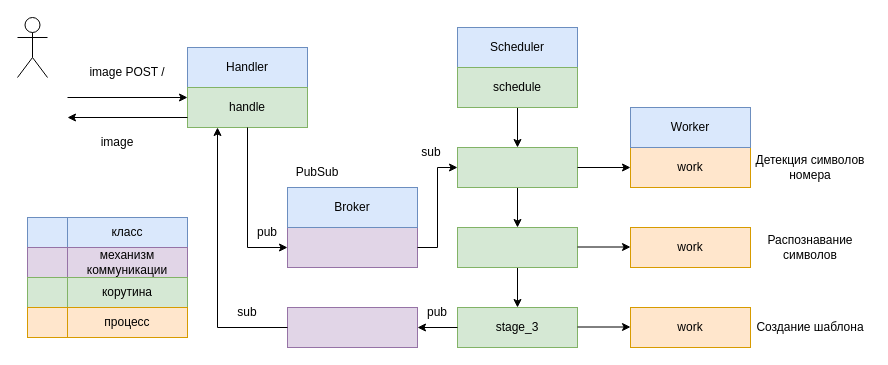
Some shapes in this 888 by 365 pixel diagram are drawn without their labels. The shapes that lost their labels are listed below. From the top down, each one's centre as x and y in pixels, then its label:
point (32, 47): Client
point (517, 167): stage_1
point (352, 247): Очередь задач
point (517, 247): stage_2
point (352, 327): Очередь результатов
